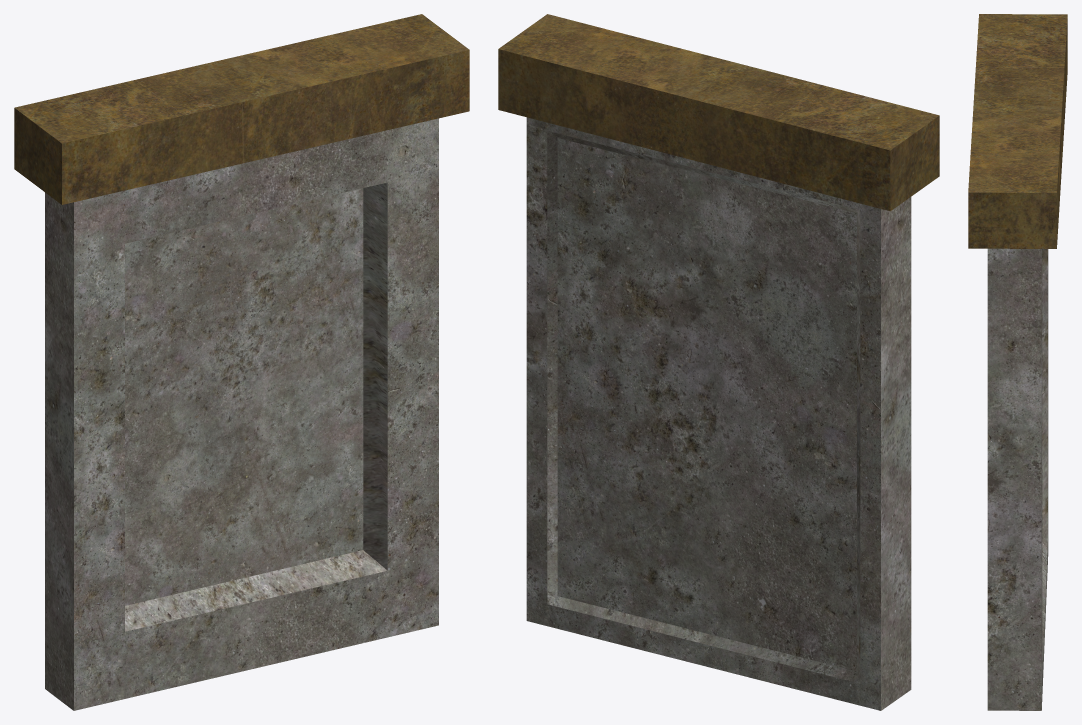
File: mg_12__plate_2.fbx
The picture shows the model from 3 angles, left to right: view 1: azimuth 30°, elevation 25°; view 2: azimuth 150°, elevation 25°; view 3: azimuth 270°, elevation 25°; orthographic projection. The views are drawn at different scales.
Visible parts, largest first — view 1: mg_12__plate_2; view 2: mg_12__plate_2; view 3: mg_12__plate_2.
Part boxes in pixels (x1=…): mg_12__plate_2: x1=14, y1=14, x2=469, y2=710; mg_12__plate_2: x1=498, y1=14, x2=939, y2=710; mg_12__plate_2: x1=968, y1=14, x2=1067, y2=710.
Bounding box in the file's own units: 27.03 × 37.09 × 6.35.
